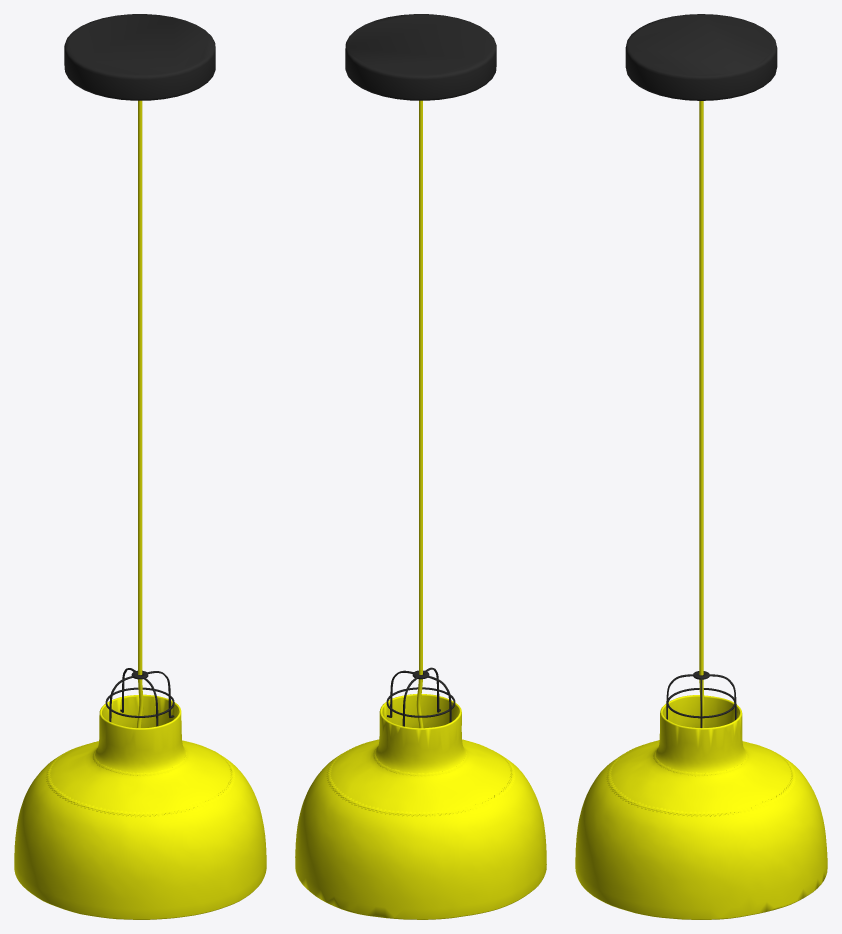
File: designconnected-sarn-7868.optimized.glb
3 views of the same model, side by side, from view 1: azimuth 30°, elevation 25°; view 2: azimuth 150°, elevation 25°; view 3: azimuth 270°, elevation 25° (orthographic).
Visible parts, largest first — view 1: Specimen_Editions_Sarn_A_mat1; view 2: Specimen_Editions_Sarn_A_mat1; view 3: Specimen_Editions_Sarn_A_mat1.
Part boxes in pixels (x1,y1,x2,y2): Specimen_Editions_Sarn_A_mat1: (14, 14, 266, 919); Specimen_Editions_Sarn_A_mat1: (295, 14, 546, 919); Specimen_Editions_Sarn_A_mat1: (575, 14, 827, 919).
Bounding box in the file's own units: 0.3 × 1.08 × 0.3.
